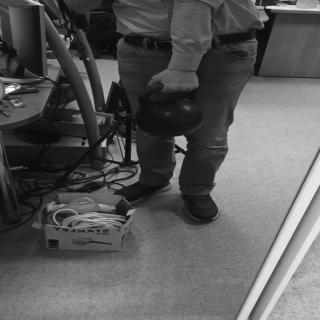kettlebell: (135, 82, 206, 138)
